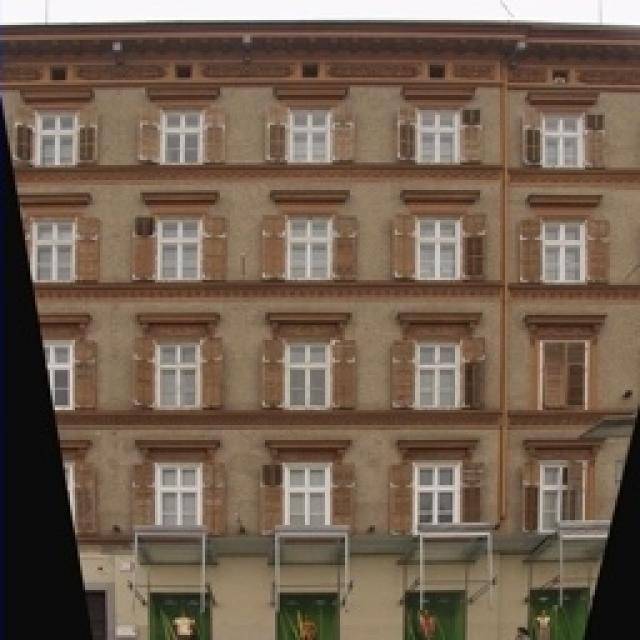Window: (542, 340, 588, 408), (155, 462, 203, 526), (288, 342, 328, 408), (418, 344, 458, 408), (418, 462, 460, 522), (288, 462, 330, 522), (290, 218, 330, 280), (160, 342, 198, 406), (420, 218, 460, 278), (35, 222, 75, 280), (160, 218, 198, 278), (165, 110, 205, 165), (290, 108, 330, 162), (545, 225, 583, 280), (545, 114, 583, 168), (422, 108, 460, 162), (40, 110, 78, 162), (49, 340, 72, 408), (540, 465, 565, 525)
